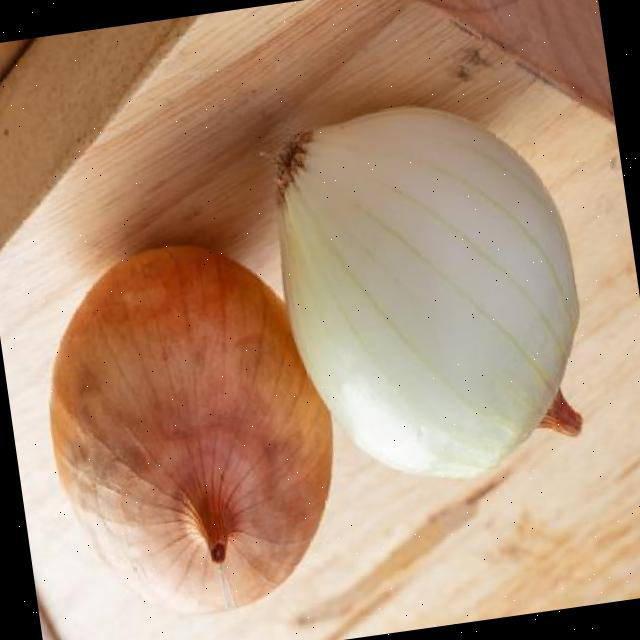Onion: (279, 106, 578, 475), (47, 244, 329, 612)
